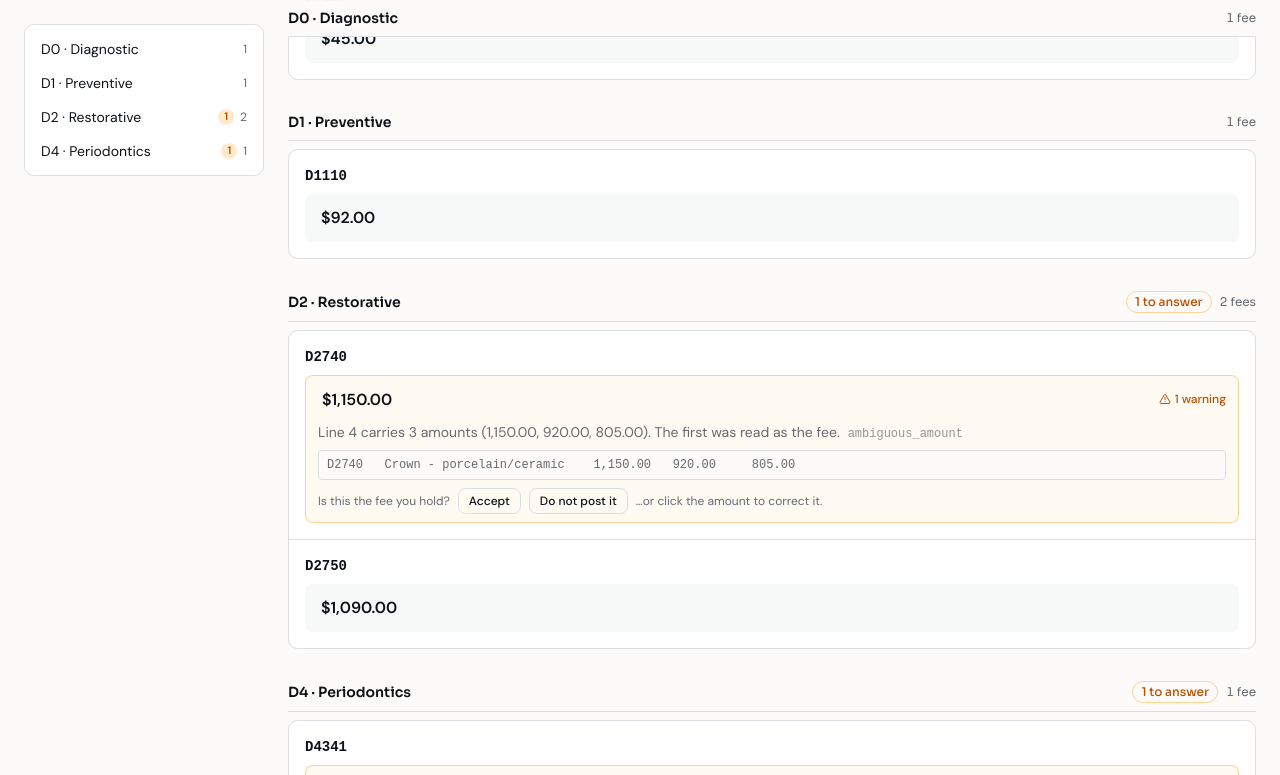
Test: editing a fee in place › Escape abandons the edit and sends nothing
The width and height of the screenshot is (1280, 775).
(page scrolled)
Click the button with test id "fees-fee-edit" showing "$1,150.00".
click(367, 400)  # box [318, 384, 415, 416]
(page scrolled)
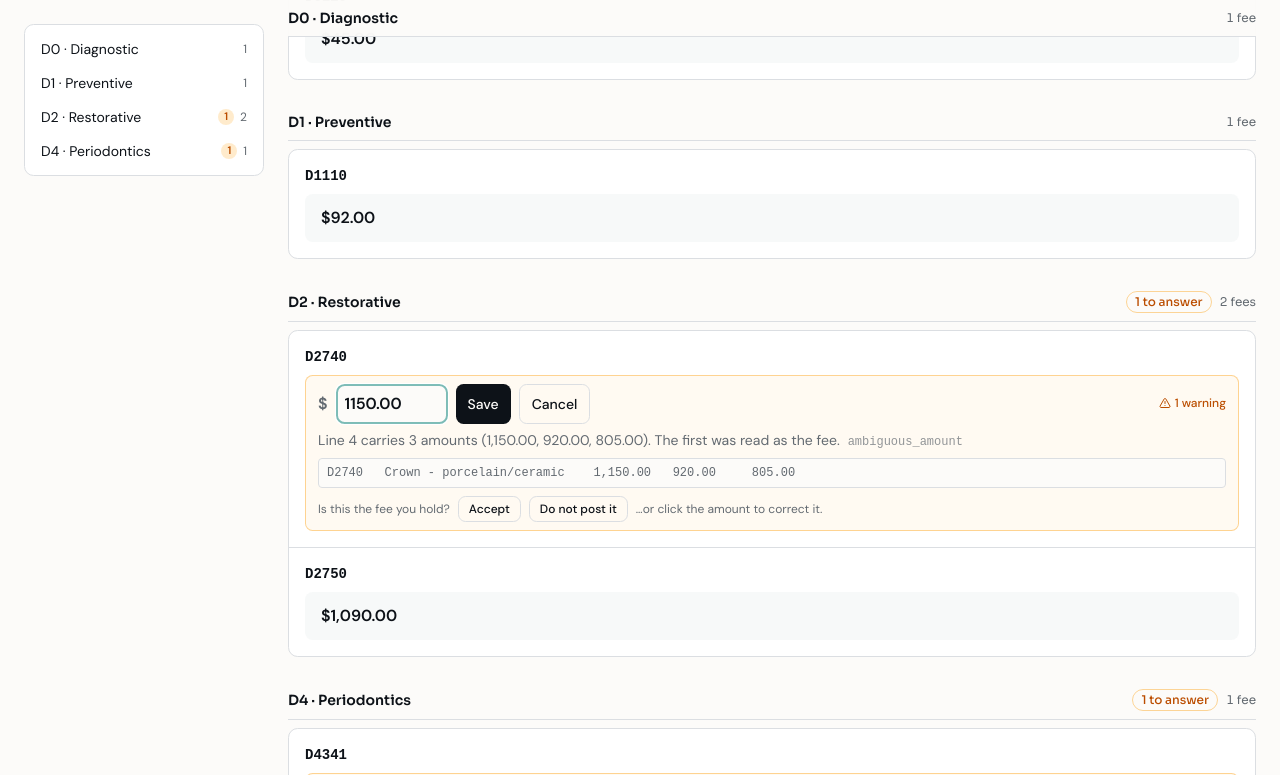
Replace the text in the field with test id "fees-fee-input" with "920.00" at (392,404), box [336, 384, 448, 424]
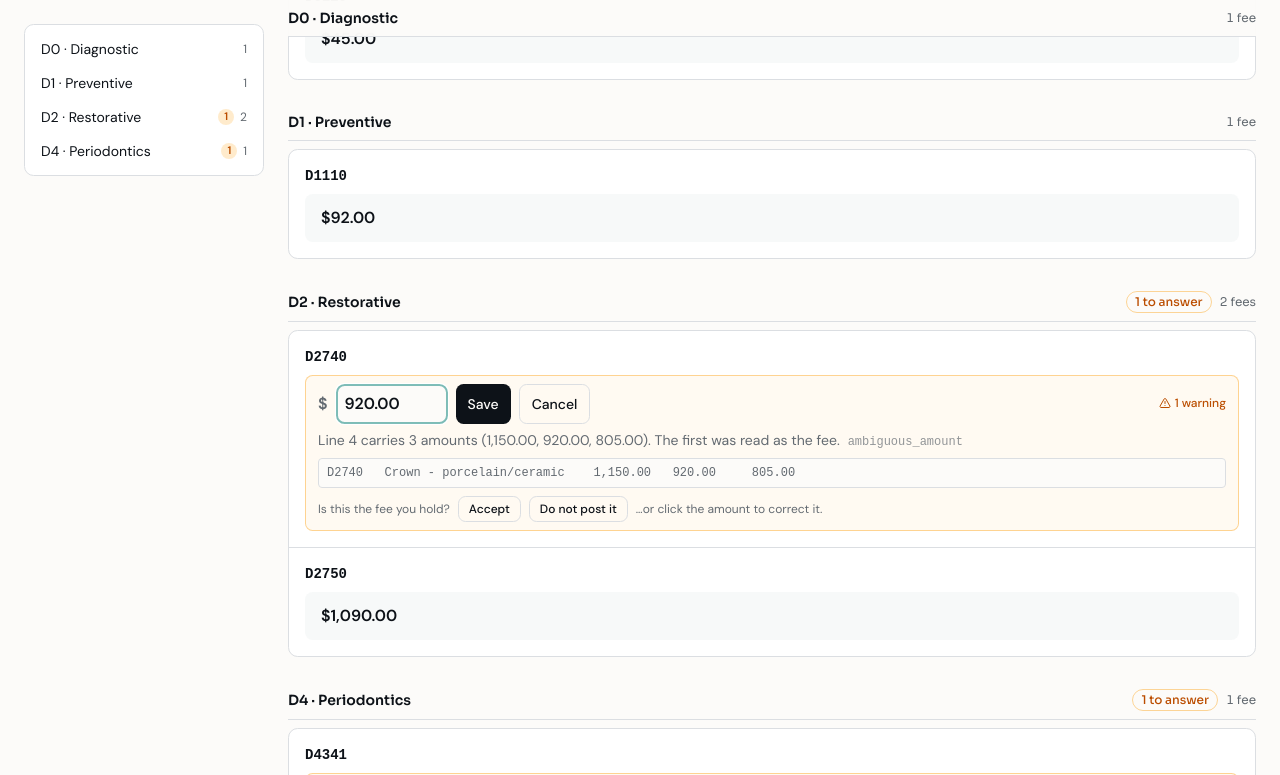
Press Escape in the field with test id "fees-fee-input", box [336, 384, 448, 424]
(page scrolled)
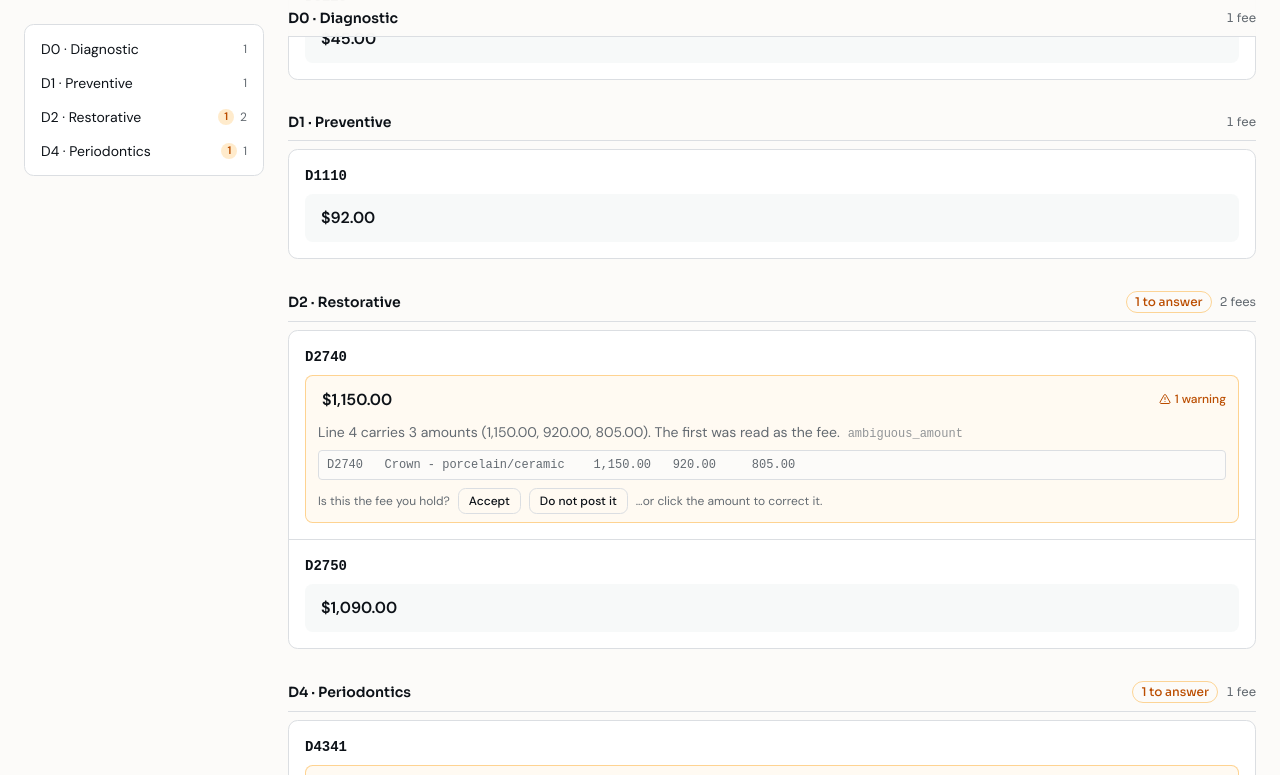
Now the field with test id "fees-fee-input" is gone
Now the text with test id "fees-row-amount" reads "$1,150.00", box [322, 389, 392, 410]
